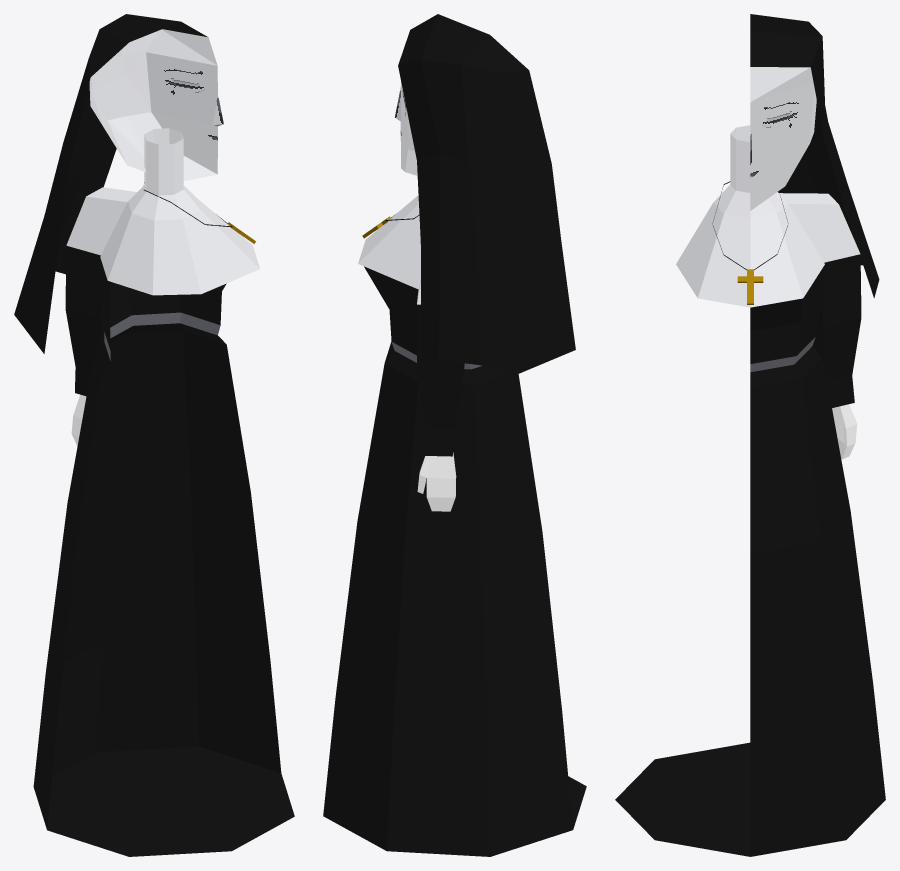
Rendered from modeloisabella.gltf.
The picture shows the model from 3 angles, left to right: view 1: azimuth 30°, elevation 25°; view 2: azimuth 150°, elevation 25°; view 3: azimuth 270°, elevation 25°; orthographic projection.
Visible parts, largest first — view 1: Vestido, Plane, Gola; view 2: Vestido, Plane, Gola, Mão Esquerda; view 3: Vestido, Plane, Gola, Mão Esquerda.
Boxes of the visible parts, left/top/right/bottom form: Vestido: left=33, top=187, right=294, bottom=856; Plane: left=14, top=14, right=223, bottom=353; Gola: left=100, top=128, right=259, bottom=295; Vestido: left=323, top=266, right=586, bottom=856; Plane: left=395, top=14, right=575, bottom=373; Gola: left=358, top=195, right=420, bottom=288; Mão Esquerda: left=417, top=452, right=456, bottom=511; Vestido: left=615, top=193, right=885, bottom=856; Plane: left=750, top=14, right=879, bottom=298; Gola: left=676, top=125, right=824, bottom=307; Mão Esquerda: left=832, top=404, right=857, bottom=459.
Bounding box in the file's own units: 2.22 × 6.94 × 2.19.
Materials: 4 (2 with a texture image).
